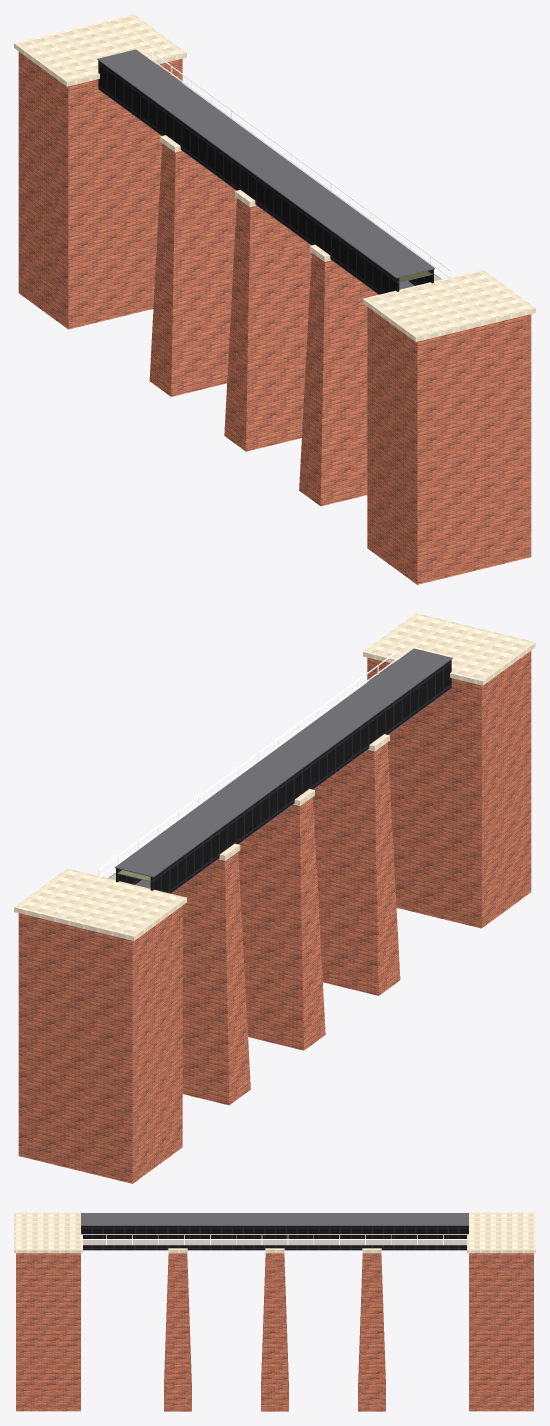
The model's file is wootton.glb.
3 renders of one model, top to bottom at view 1: azimuth 30°, elevation 25°; view 2: azimuth 150°, elevation 25°; view 3: azimuth 270°, elevation 25°, orthographic. The views are drawn at different scales.
Parts seen in each view (by area): view 1: Pier, PierCap, TroughFloor, TroughSide, RailPost; view 2: Pier, PierCap, TroughFloor, TroughSide, RailPost; view 3: Pier, TroughSide, PierCap, TroughFloor, Towpath, RailPost.
Boxes of the visible parts, bbox=[...] form: Pier: bbox=[18, 51, 531, 584]; PierCap: bbox=[14, 14, 535, 341]; TroughFloor: bbox=[97, 49, 434, 294]; TroughSide: bbox=[98, 61, 441, 294]; RailPost: bbox=[151, 51, 451, 278]; Pier: bbox=[18, 650, 531, 1183]; PierCap: bbox=[14, 613, 535, 940]; TroughFloor: bbox=[115, 648, 452, 893]; TroughSide: bbox=[108, 660, 451, 893]; RailPost: bbox=[98, 650, 398, 877]; Pier: bbox=[16, 1253, 533, 1411]; TroughSide: bbox=[81, 1226, 468, 1250]; PierCap: bbox=[14, 1212, 535, 1253]; TroughFloor: bbox=[81, 1213, 468, 1225]; Towpath: bbox=[83, 1240, 466, 1245]; RailPost: bbox=[80, 1234, 469, 1245].
Size of the model in its own units: 8.34 by 18.11 by 48.4.
7 materials, 4 textured.
